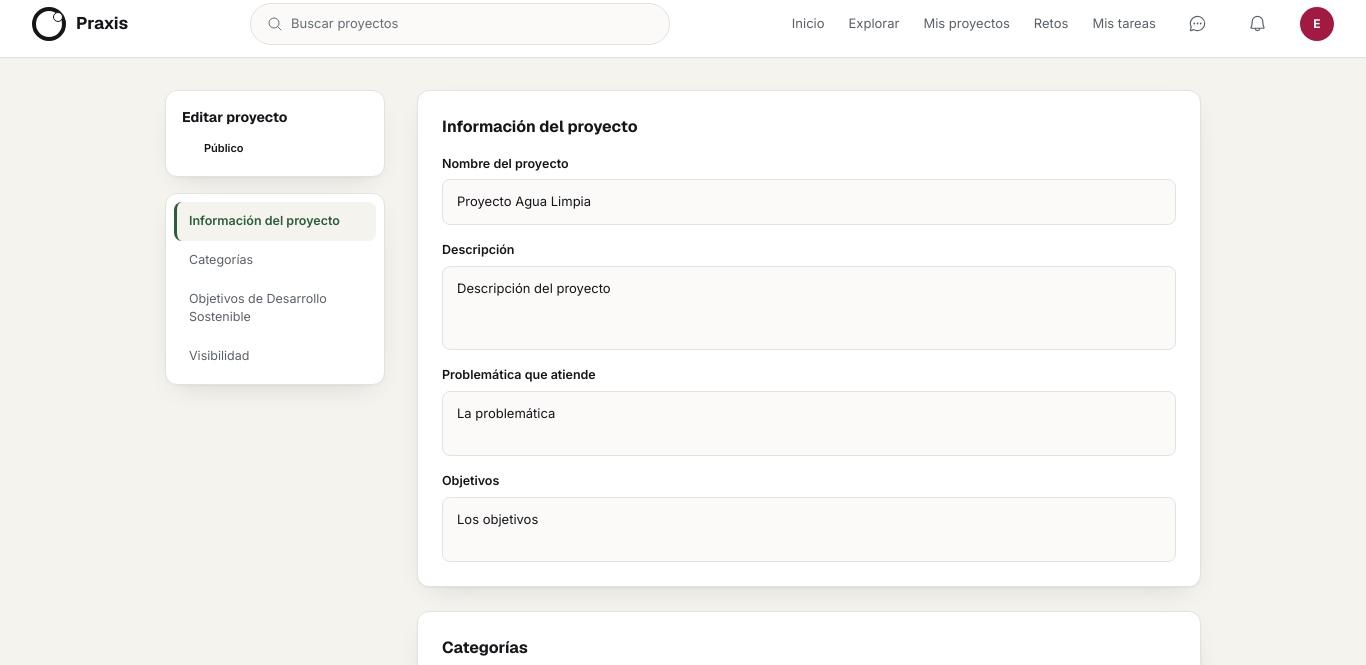
EditProject — required-field validation › blocks submission with an empty required field and shows the error
The width and height of the screenshot is (1366, 665).
Clear the field showing "Proyecto Agua Limpia" at (809, 202), box [442,179,1176,225]
(page scrolled)
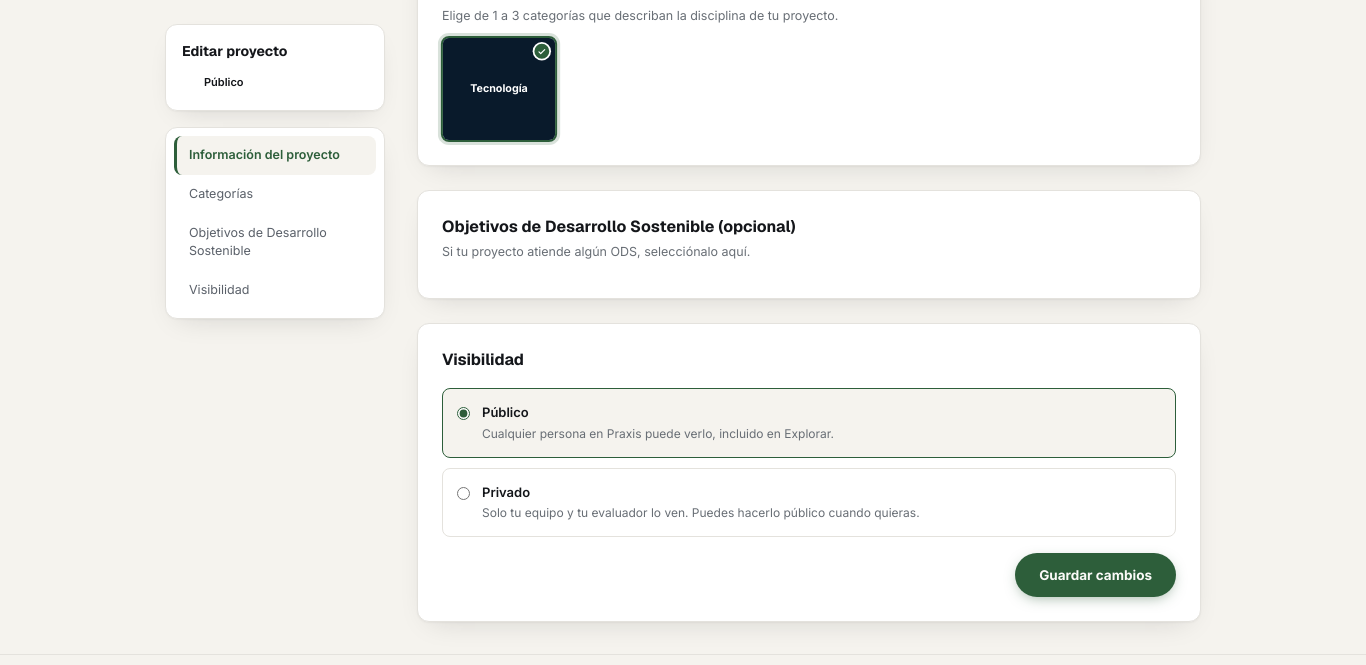
Click the button "Guardar cambios" at (1096, 575), box [1015,553,1176,597]
(page scrolled)
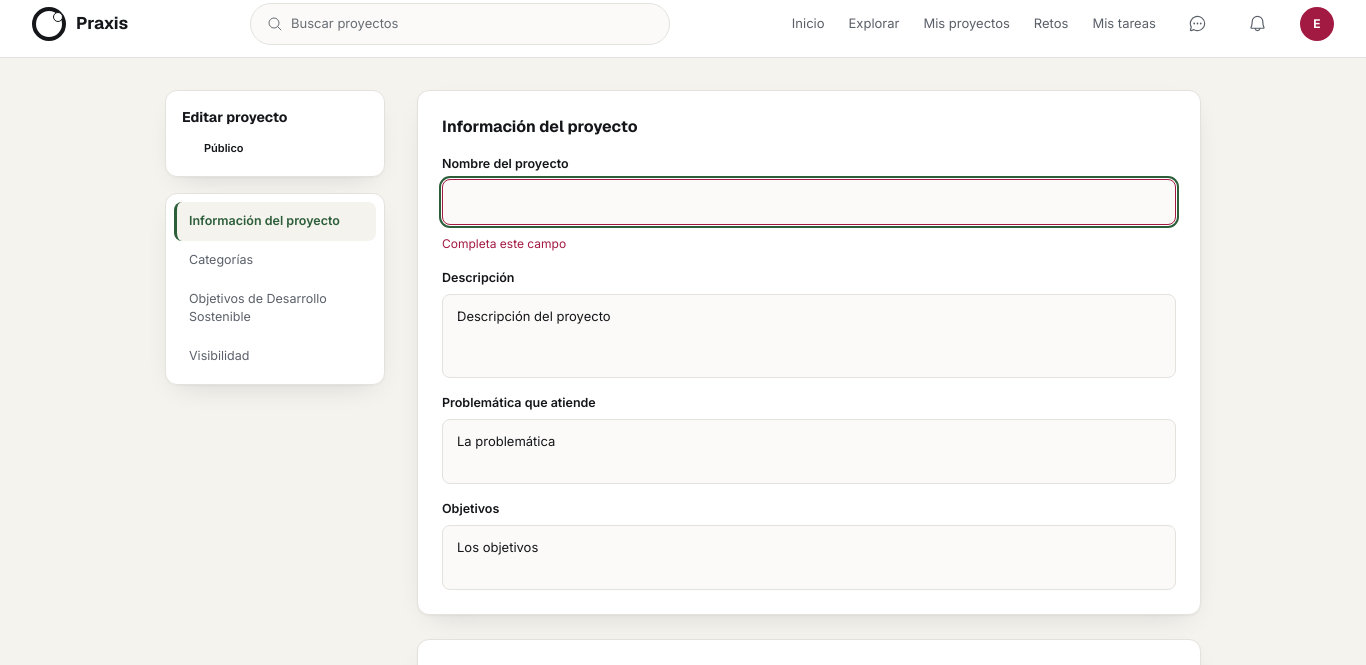
Now the text "Completa este campo" is shown, box [442,236,566,251]
